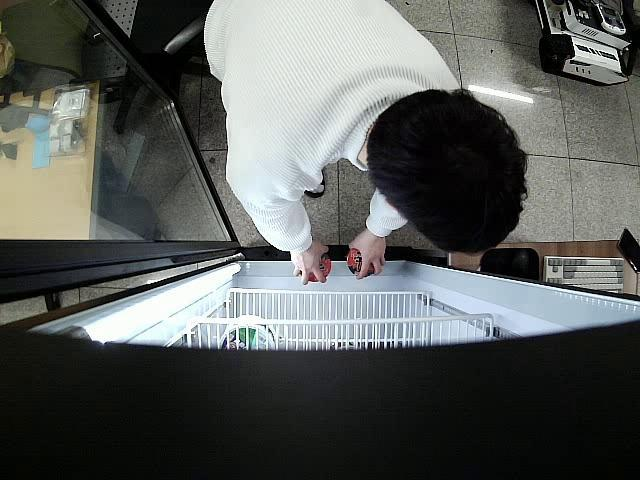02_shinRamen_S: (346, 245, 378, 276), (298, 254, 330, 283)
